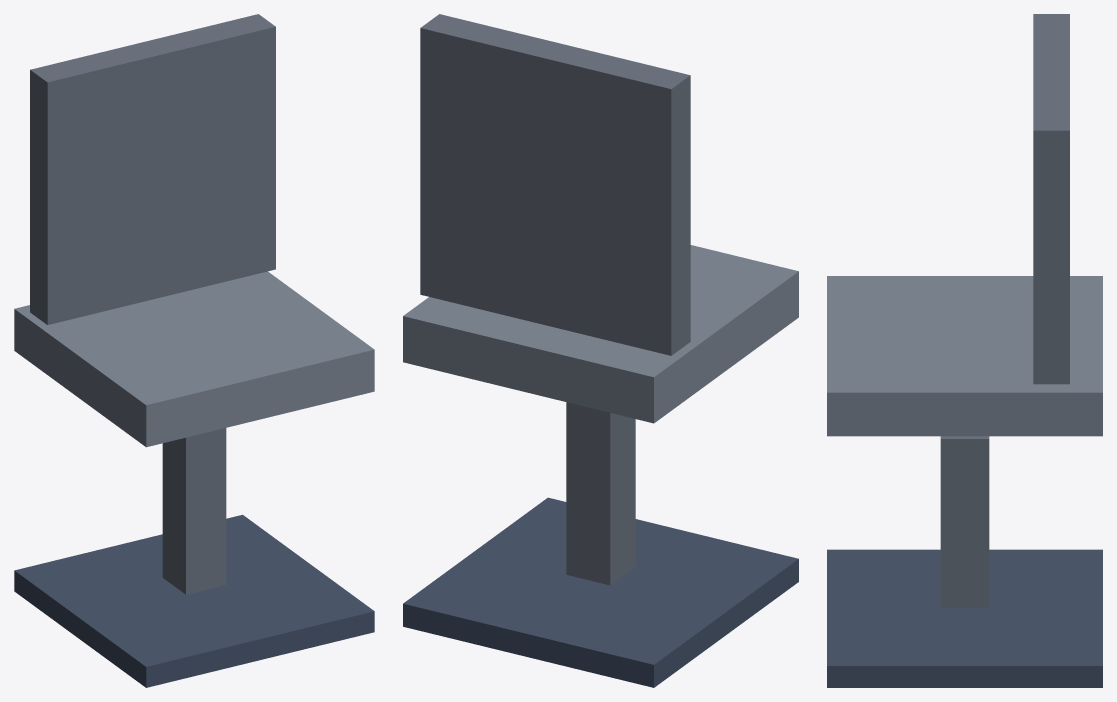
Rendered from cadeira-escritorio.glb.
3 renders of one model, left to right at view 1: azimuth 30°, elevation 25°; view 2: azimuth 150°, elevation 25°; view 3: azimuth 270°, elevation 25°, orthographic. The views are drawn at different scales.
Size of the model in its own units: 0.455 by 1.01 by 0.455.
